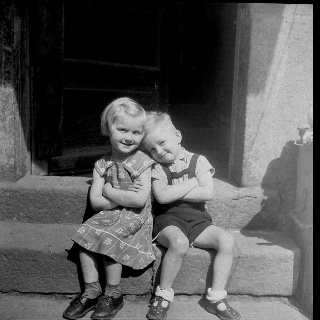without_mask: (110, 112, 143, 153), (141, 128, 178, 164)
